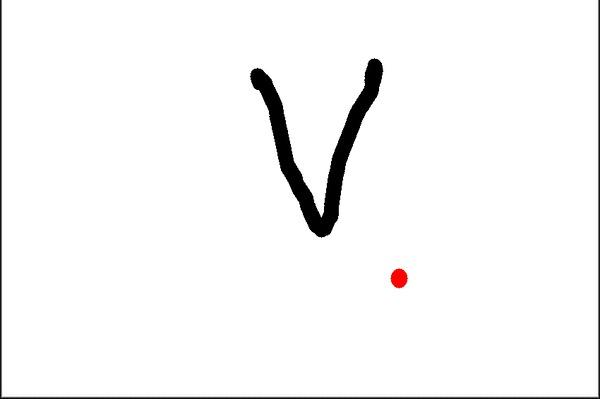V: (243, 51, 392, 242)
